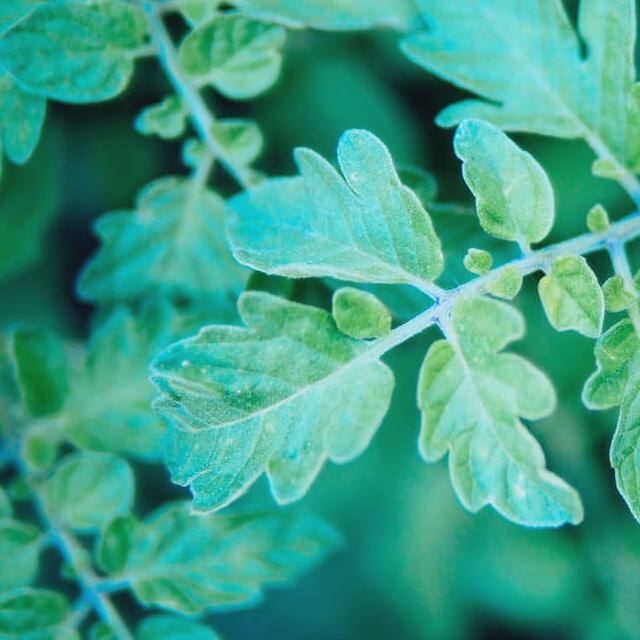Tomato leaf: (147, 286, 400, 519), (408, 0, 640, 203), (209, 126, 449, 303), (428, 275, 566, 575), (583, 245, 640, 560)
